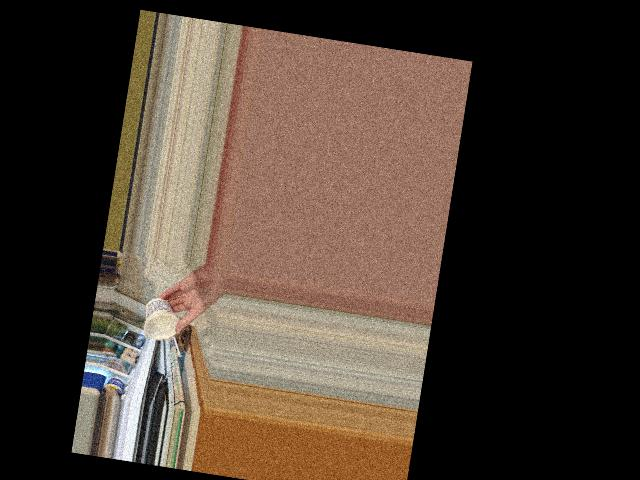cotage: (144, 295, 182, 343)
